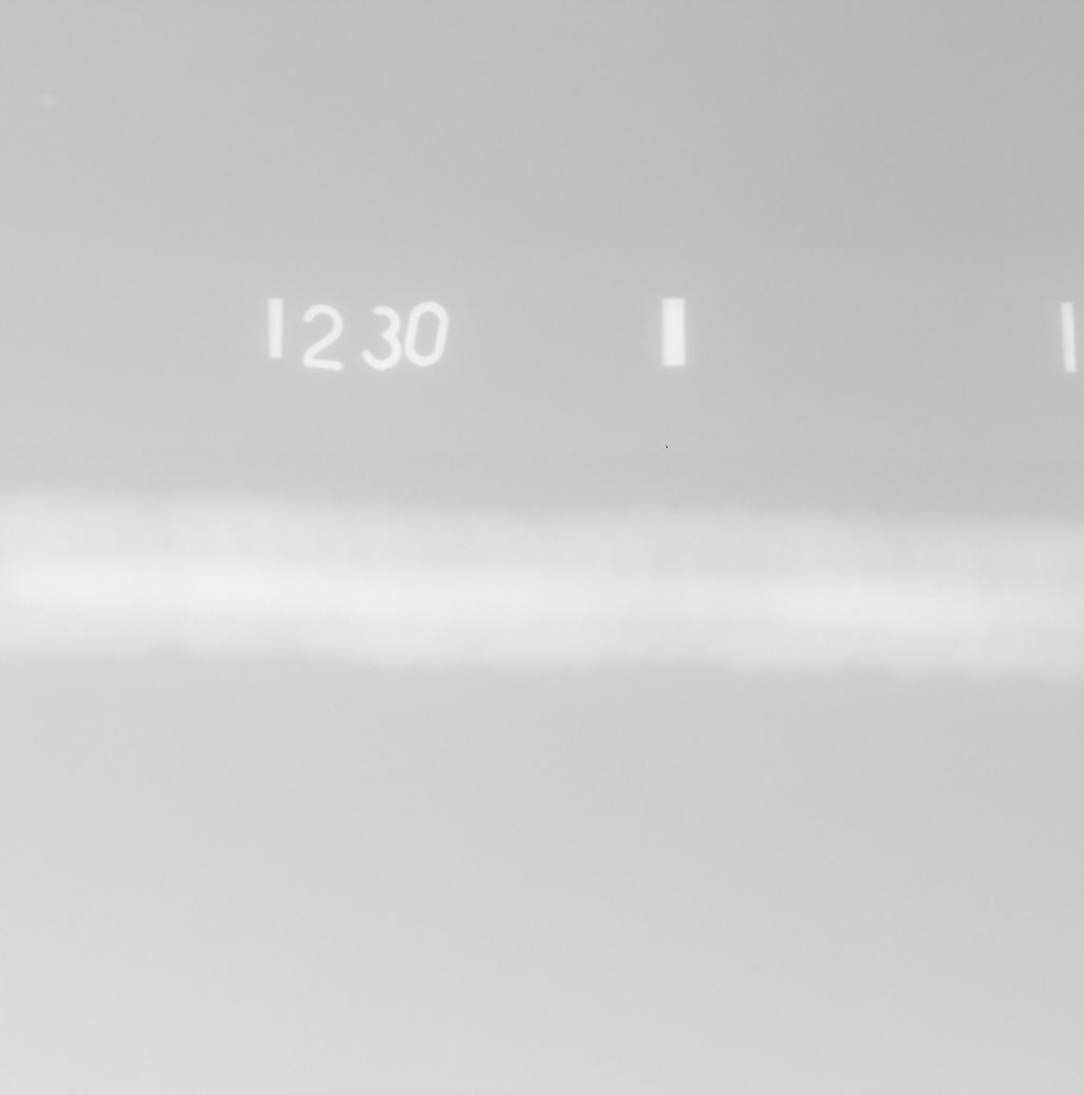Pore/Porosity: (929, 592, 933, 596)
